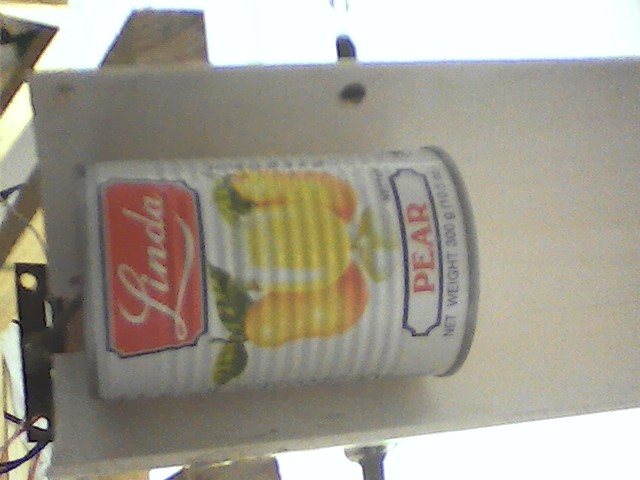lata: (62, 137, 493, 416)
